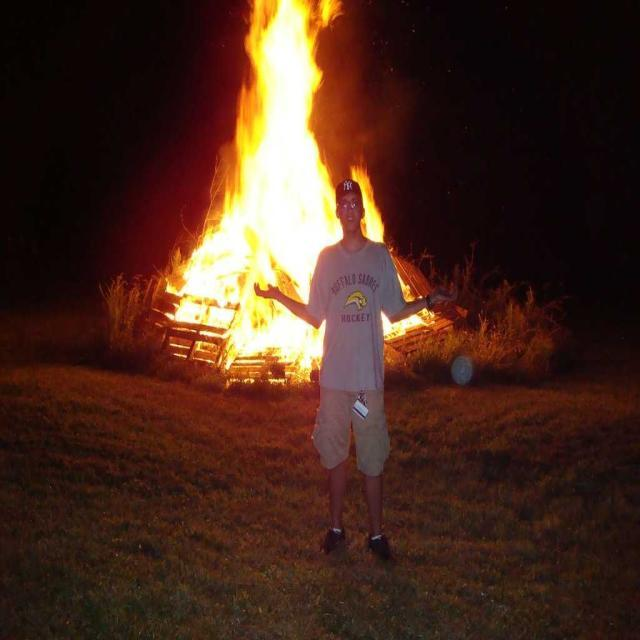Fire: (258, 3, 312, 235), (188, 256, 234, 336), (240, 318, 304, 367)
